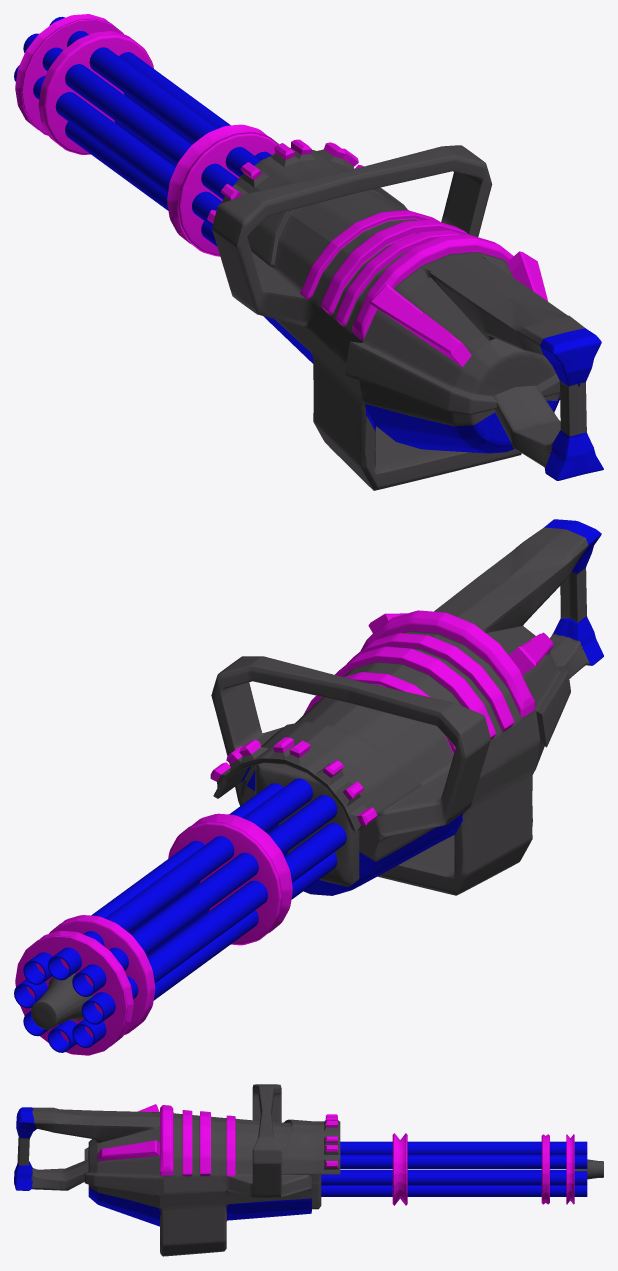
Rendered from minigun.fbx.
3 views of the same model, one above another, from view 1: azimuth 30°, elevation 25°; view 2: azimuth 150°, elevation 25°; view 3: azimuth 270°, elevation 25° (orthographic). The views are drawn at different scales.
Parts seen in each view (by area): view 1: pCylinder10; view 2: pCylinder10; view 3: pCylinder10.
Boxes of the visible parts, x1=… form: pCylinder10: x1=14, y1=14, x2=603, y2=490; pCylinder10: x1=14, y1=519, x2=603, y2=1055; pCylinder10: x1=14, y1=1084, x2=603, y2=1256.
Bounding box in the file's own units: 22.38 × 19.43 × 81.75.
